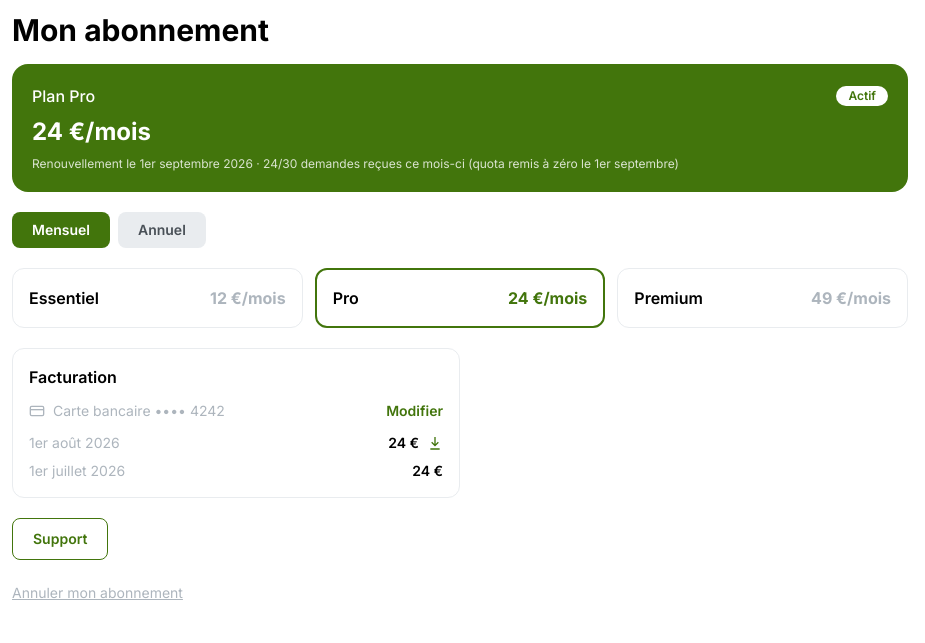
Test: SubscriptionComponent › l'annuel affiche les prix à l'année et l'économie par rapport au mensuel
Click the button "Annuel". click: (162, 230)
box: [118, 212, 206, 248]
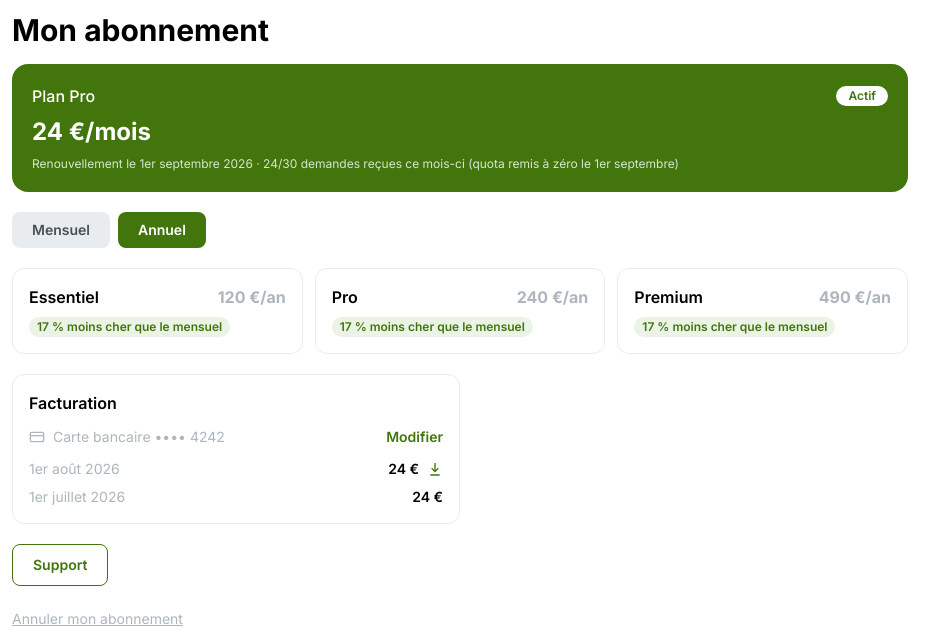
Expected: the button "Essentiel 120 €/an 17 % moins cher que le mensuel" is shown, [12, 268, 303, 354]
Expected: the button "Pro 240 €/an 17 % moins cher que le mensuel" is shown, [315, 268, 605, 354]
